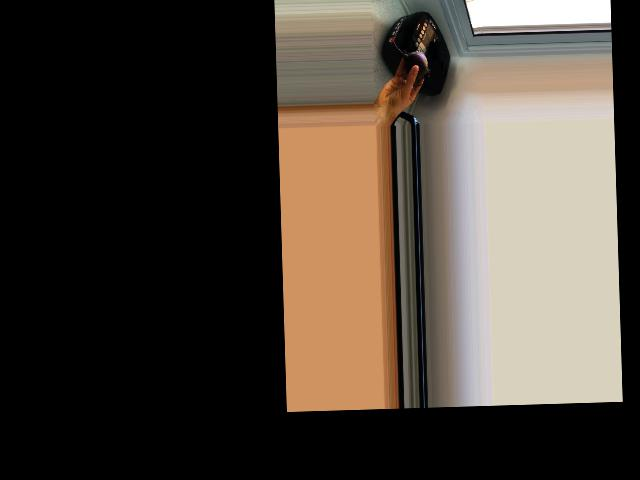beet: (393, 40, 430, 86)
